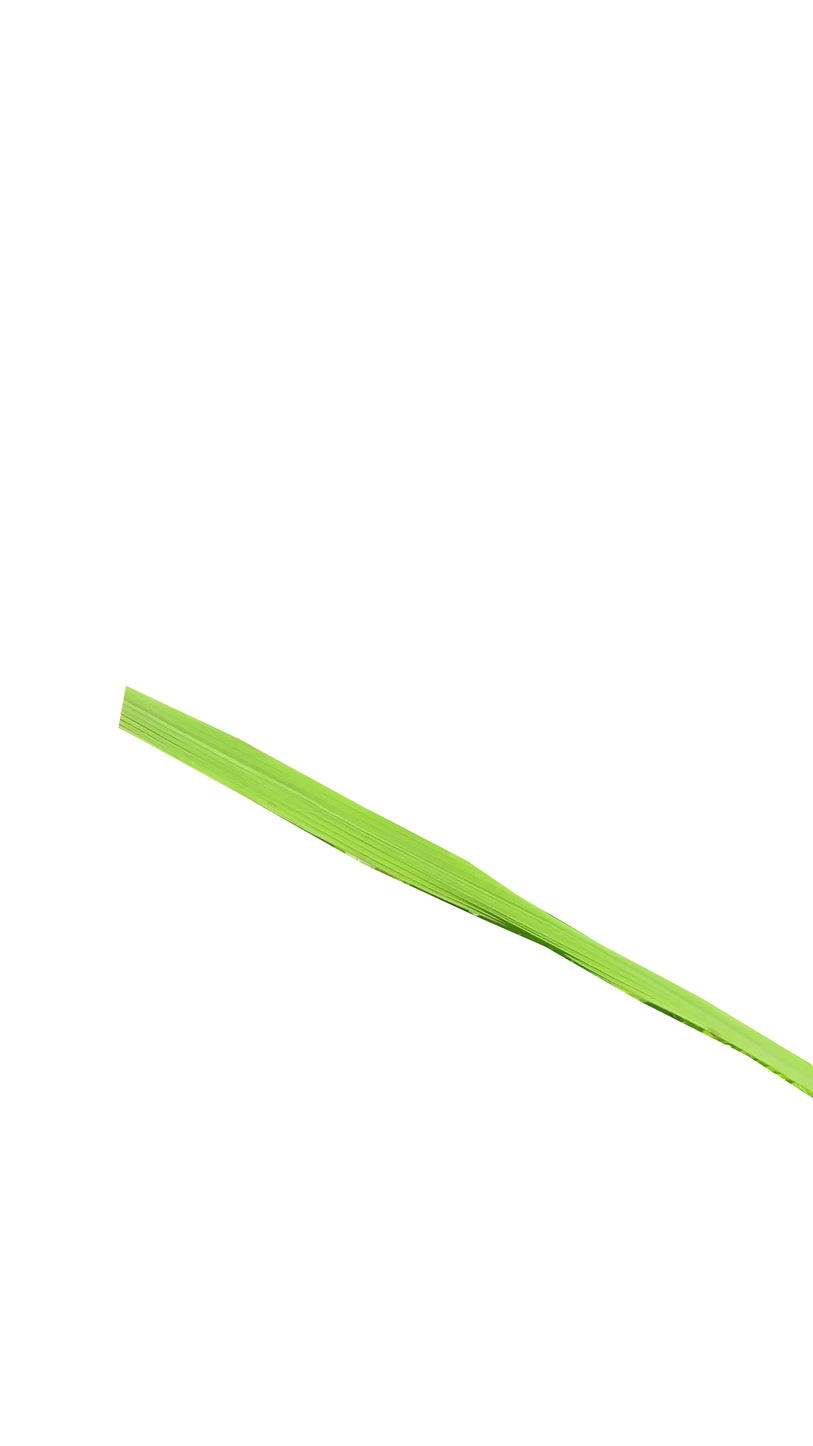Tungro: (117, 688, 813, 1108)
